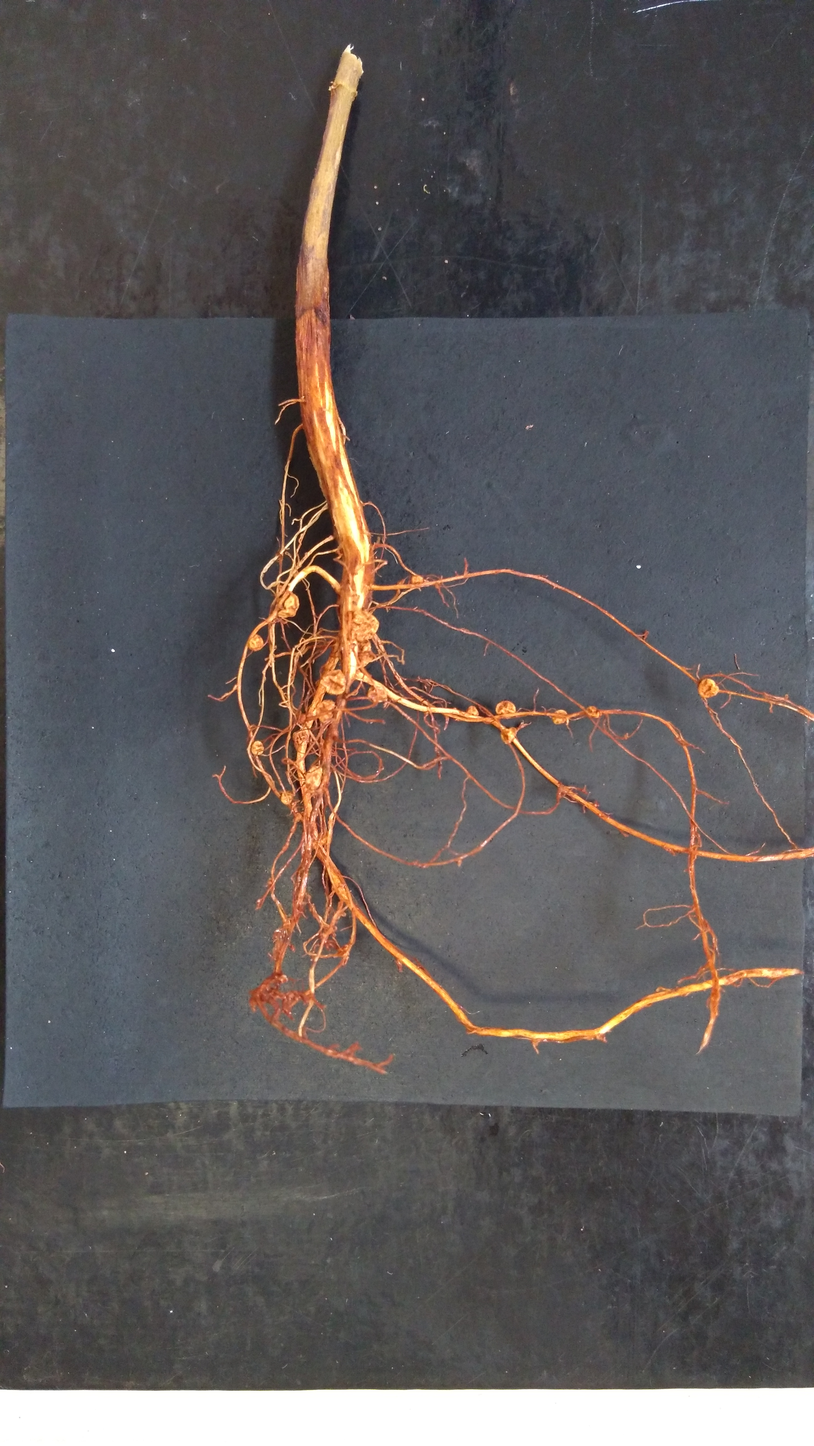nodule: (350, 607, 381, 643), (317, 667, 349, 697), (696, 675, 721, 703), (313, 698, 337, 725), (278, 593, 301, 620), (302, 763, 323, 791), (365, 684, 390, 704), (494, 697, 518, 717), (498, 725, 522, 745), (583, 704, 608, 723), (247, 633, 266, 654), (549, 709, 570, 726), (248, 739, 265, 756), (463, 705, 483, 719), (279, 789, 294, 807), (409, 573, 426, 587), (295, 713, 307, 726)
